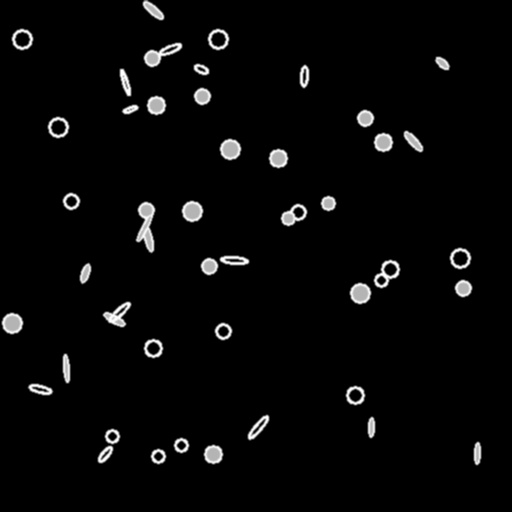pseudomonas: (247, 414, 269, 440), (107, 301, 131, 323), (135, 214, 153, 242), (402, 130, 424, 152), (142, 0, 164, 20), (102, 311, 126, 327), (141, 225, 155, 251), (158, 42, 182, 56), (119, 69, 131, 95), (97, 445, 113, 463), (28, 383, 52, 395), (79, 263, 91, 283), (220, 256, 248, 264), (434, 56, 450, 70), (62, 355, 70, 381), (193, 63, 209, 75), (300, 65, 308, 87), (122, 104, 138, 114), (474, 443, 480, 463), (368, 418, 374, 436)
synechocystis: (451, 249, 469, 267), (3, 314, 21, 332), (351, 284, 369, 302), (209, 30, 227, 48), (13, 30, 31, 48), (221, 140, 239, 158), (49, 118, 67, 136), (183, 202, 201, 220), (375, 134, 391, 150), (145, 340, 161, 356), (148, 97, 164, 113), (270, 150, 286, 166), (347, 387, 363, 403), (205, 446, 221, 462), (382, 261, 398, 277), (202, 259, 216, 273), (64, 194, 78, 208), (358, 111, 372, 125), (195, 89, 209, 103), (139, 203, 153, 217), (216, 324, 230, 338), (291, 205, 305, 219), (456, 281, 470, 295), (145, 51, 159, 65), (322, 197, 334, 209), (152, 450, 164, 462), (175, 439, 187, 451), (106, 430, 118, 442), (282, 212, 294, 224), (375, 274, 387, 286)
